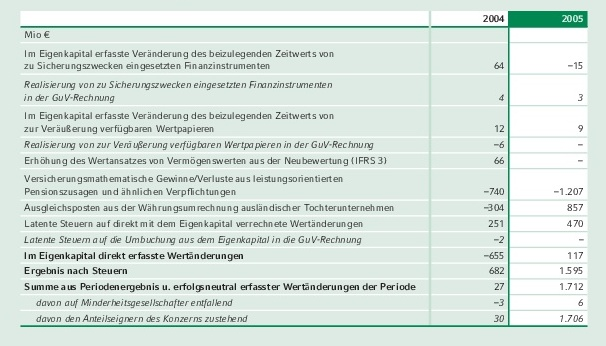table: (0, 0, 606, 346)
